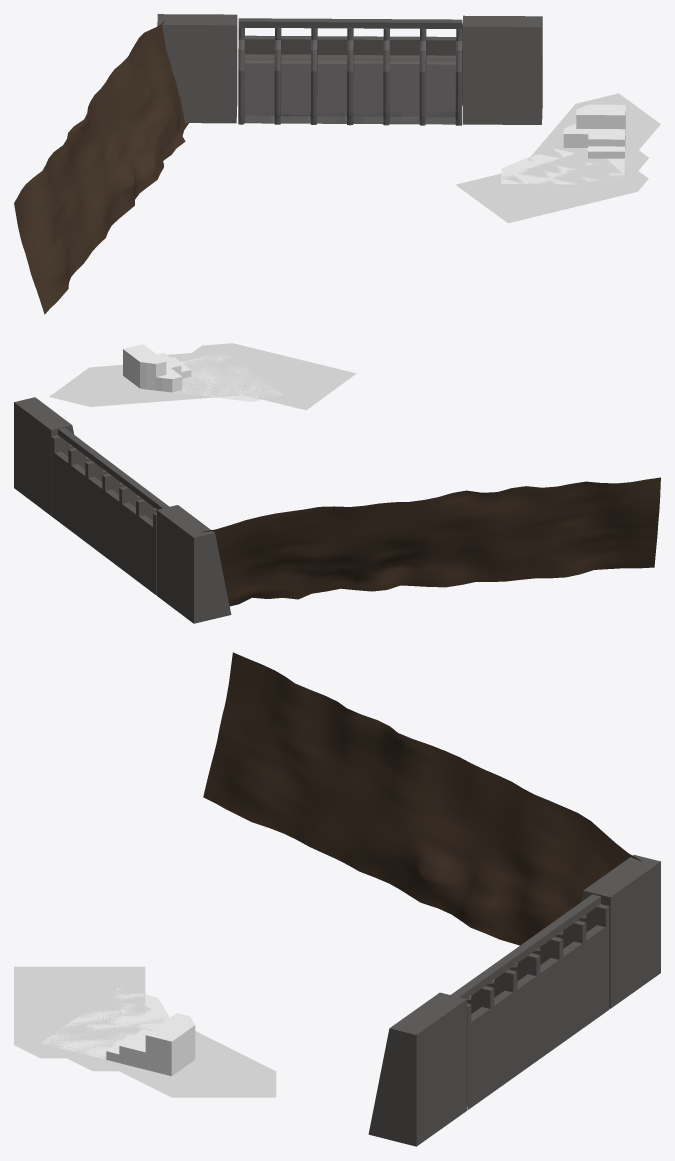
Rendered from level_2.glb.
3 renders of one model, top to bottom at view 1: azimuth 30°, elevation 25°; view 2: azimuth 150°, elevation 25°; view 3: azimuth 270°, elevation 25°, orthographic. The views are drawn at different scales.
Parts seen in each view (by area): view 1: Cube, Landscape.002, Grid, Grid.001; view 2: Landscape.002, Cube, Grid, Grid.001; view 3: Landscape.002, Cube, Grid, Grid.001.
Boxes of the visible parts, x1,y1,x2,y2 form: Cube: (157, 14, 542, 125); Landscape.002: (14, 19, 188, 314); Grid: (455, 93, 660, 223); Grid.001: (501, 104, 625, 184); Landscape.002: (201, 477, 660, 606); Cube: (14, 397, 231, 623); Grid: (49, 343, 356, 410); Grid.001: (123, 344, 282, 401); Landscape.002: (203, 652, 641, 947); Cube: (368, 855, 660, 1146); Grid: (14, 966, 276, 1097); Grid.001: (41, 988, 195, 1076).
Size of the model in its own units: 187 by 31.56 by 136.
3 materials, 2 textured.
